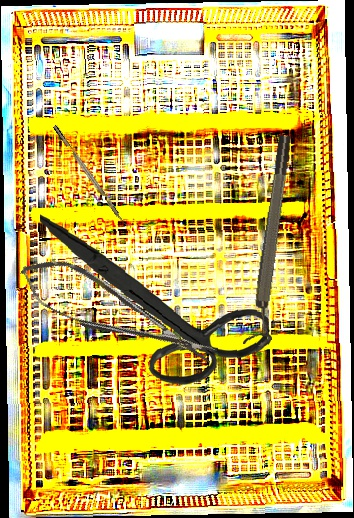Chopper: (52, 121, 134, 231)
Fixation Ring: (242, 134, 304, 348)
Iris Scissors: (31, 212, 274, 390)
Micro Scissor: (11, 244, 223, 385)
